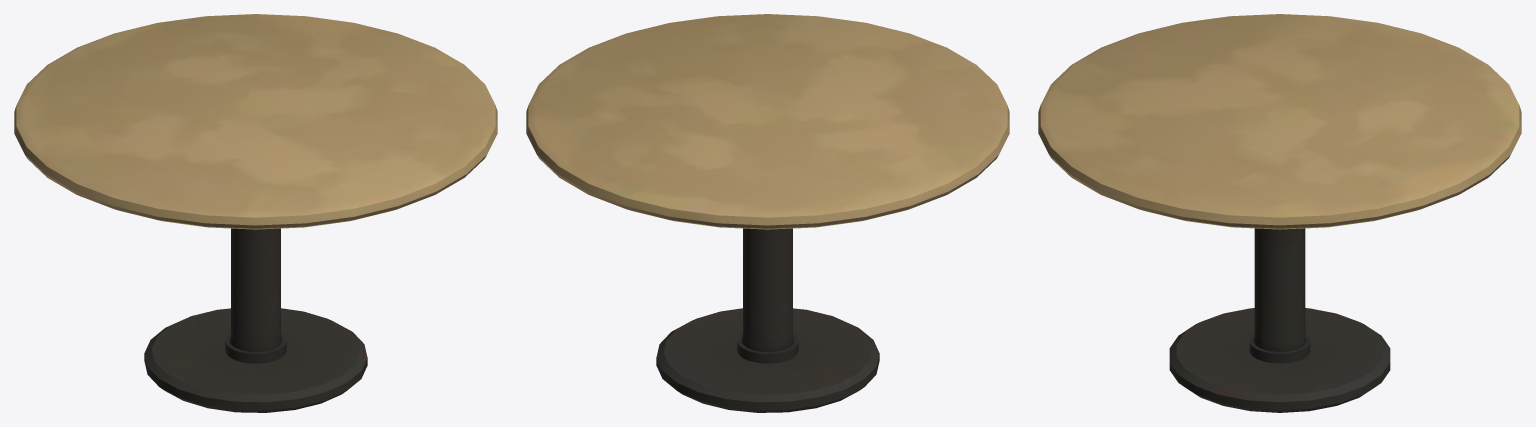
Rendered from four_top.glb.
The picture shows the model from 3 angles, left to right: view 1: azimuth 30°, elevation 25°; view 2: azimuth 150°, elevation 25°; view 3: azimuth 270°, elevation 25°; orthographic projection.
Visible parts, largest first — view 1: four_top; view 2: four_top; view 3: four_top.
Part boxes in pixels (<box>): four_top: <box>14,14,497,412</box>; four_top: <box>526,14,1009,412</box>; four_top: <box>1038,14,1521,412</box>.
Bounding box in the file's own units: 1.35 × 0.785 × 1.34.
Materials: 1 (1 with a texture image).
